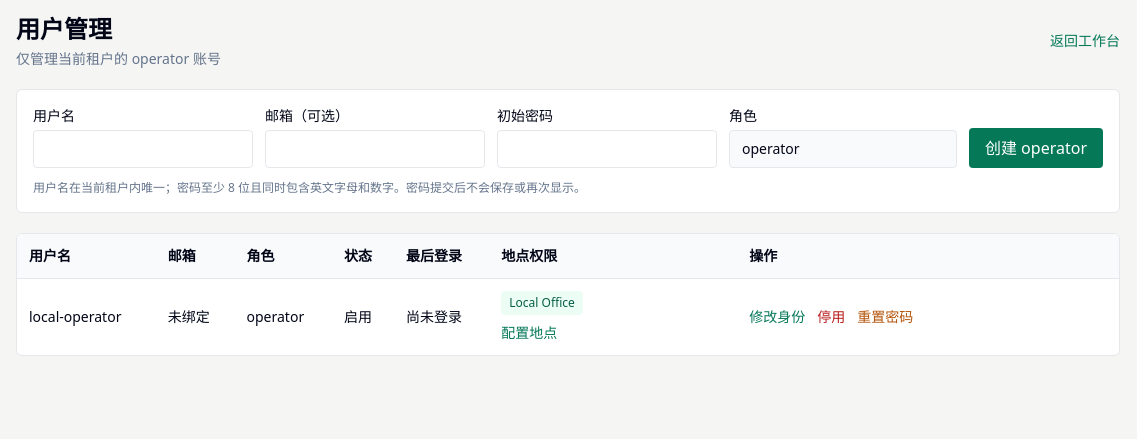
users page › rejects an invalid password before sending a create request
This screenshot has width=1137, height=439.
Expected: the text "local-operator" is shown, [17, 278, 156, 355]
Type "new-operator" into the field with test id "create-user-username". click: (143,149)
box: [33, 130, 253, 168]
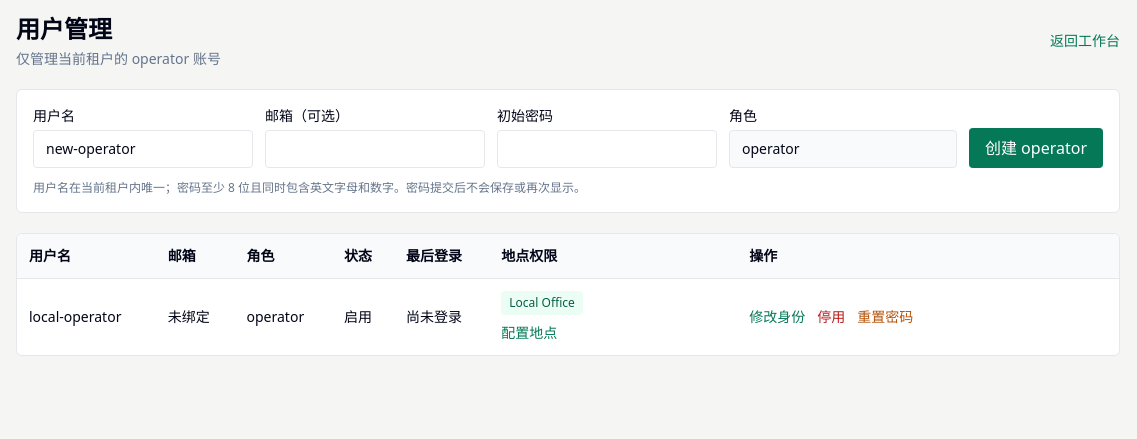
Type "new-operator@example.local" into the field with test id "create-user-email". click: (375,149)
box: [265, 130, 485, 168]
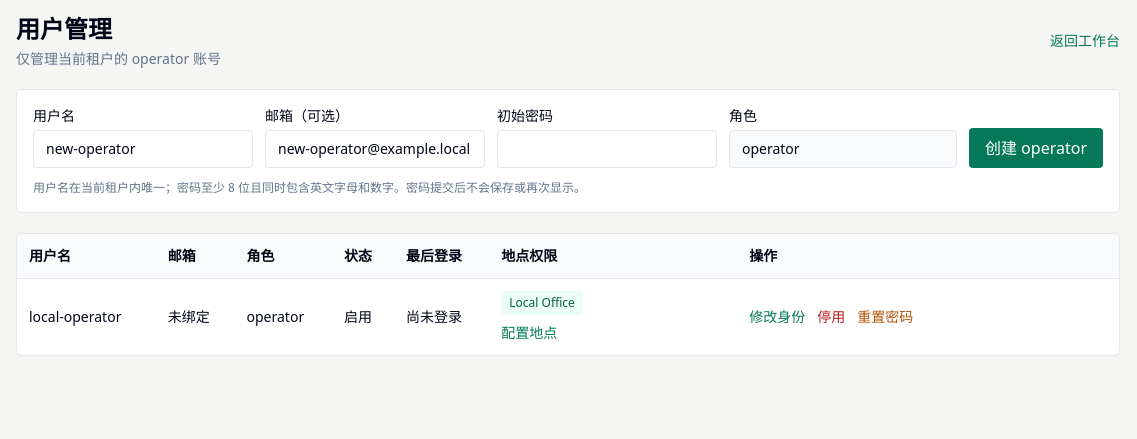
Type "abcdefgh" into the password field with test id "create-user-password". click: (607,149)
box: [497, 130, 717, 168]
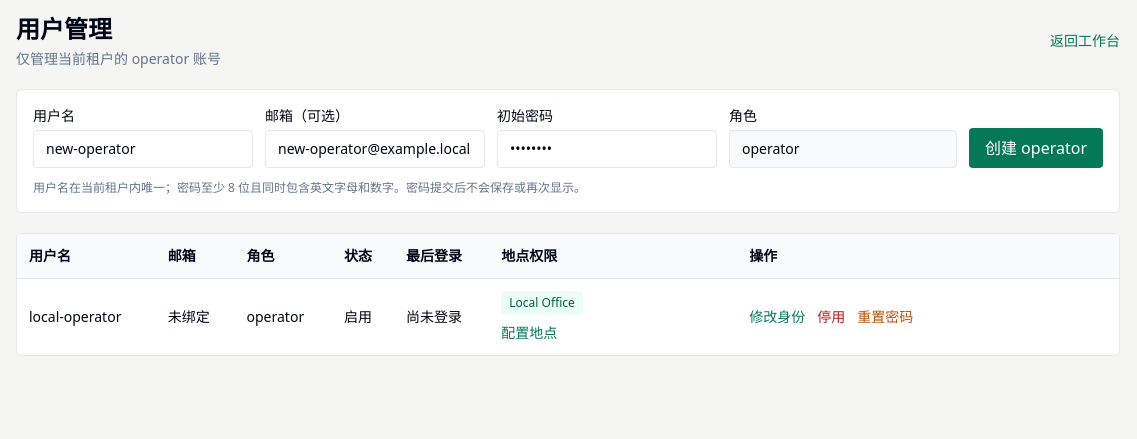
Click the button with test id "create-user-submit". click: (1036,148)
box: [969, 128, 1103, 168]
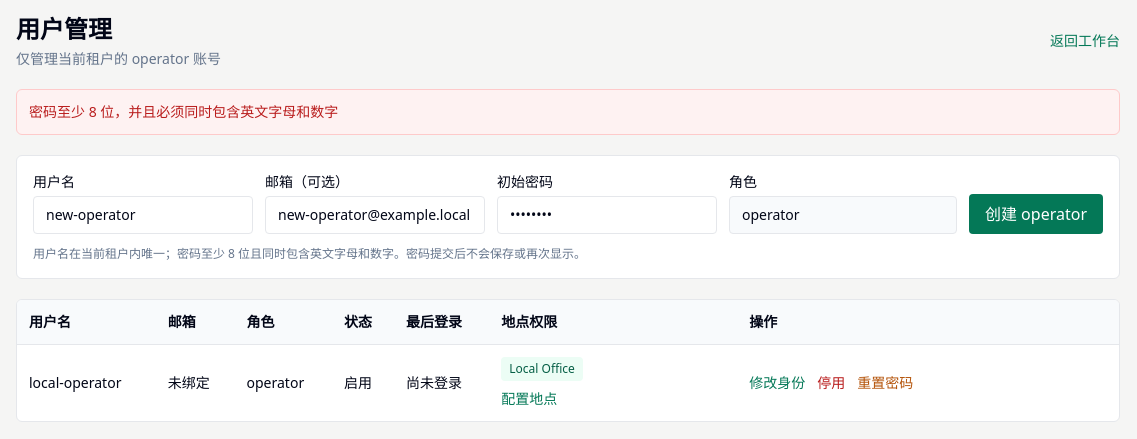
Now the message shows "至少 8 位", box [29, 102, 338, 121]
